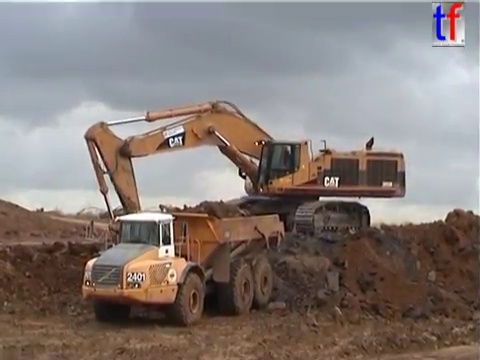excavator: (81, 98, 409, 255)
truck: (79, 208, 286, 328), (238, 194, 325, 236)
